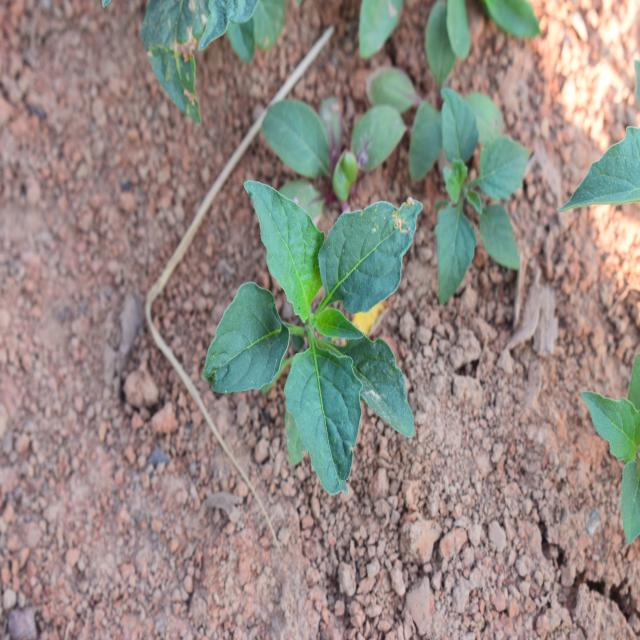Black_nightshade: (219, 183, 422, 468), (412, 92, 522, 308)
